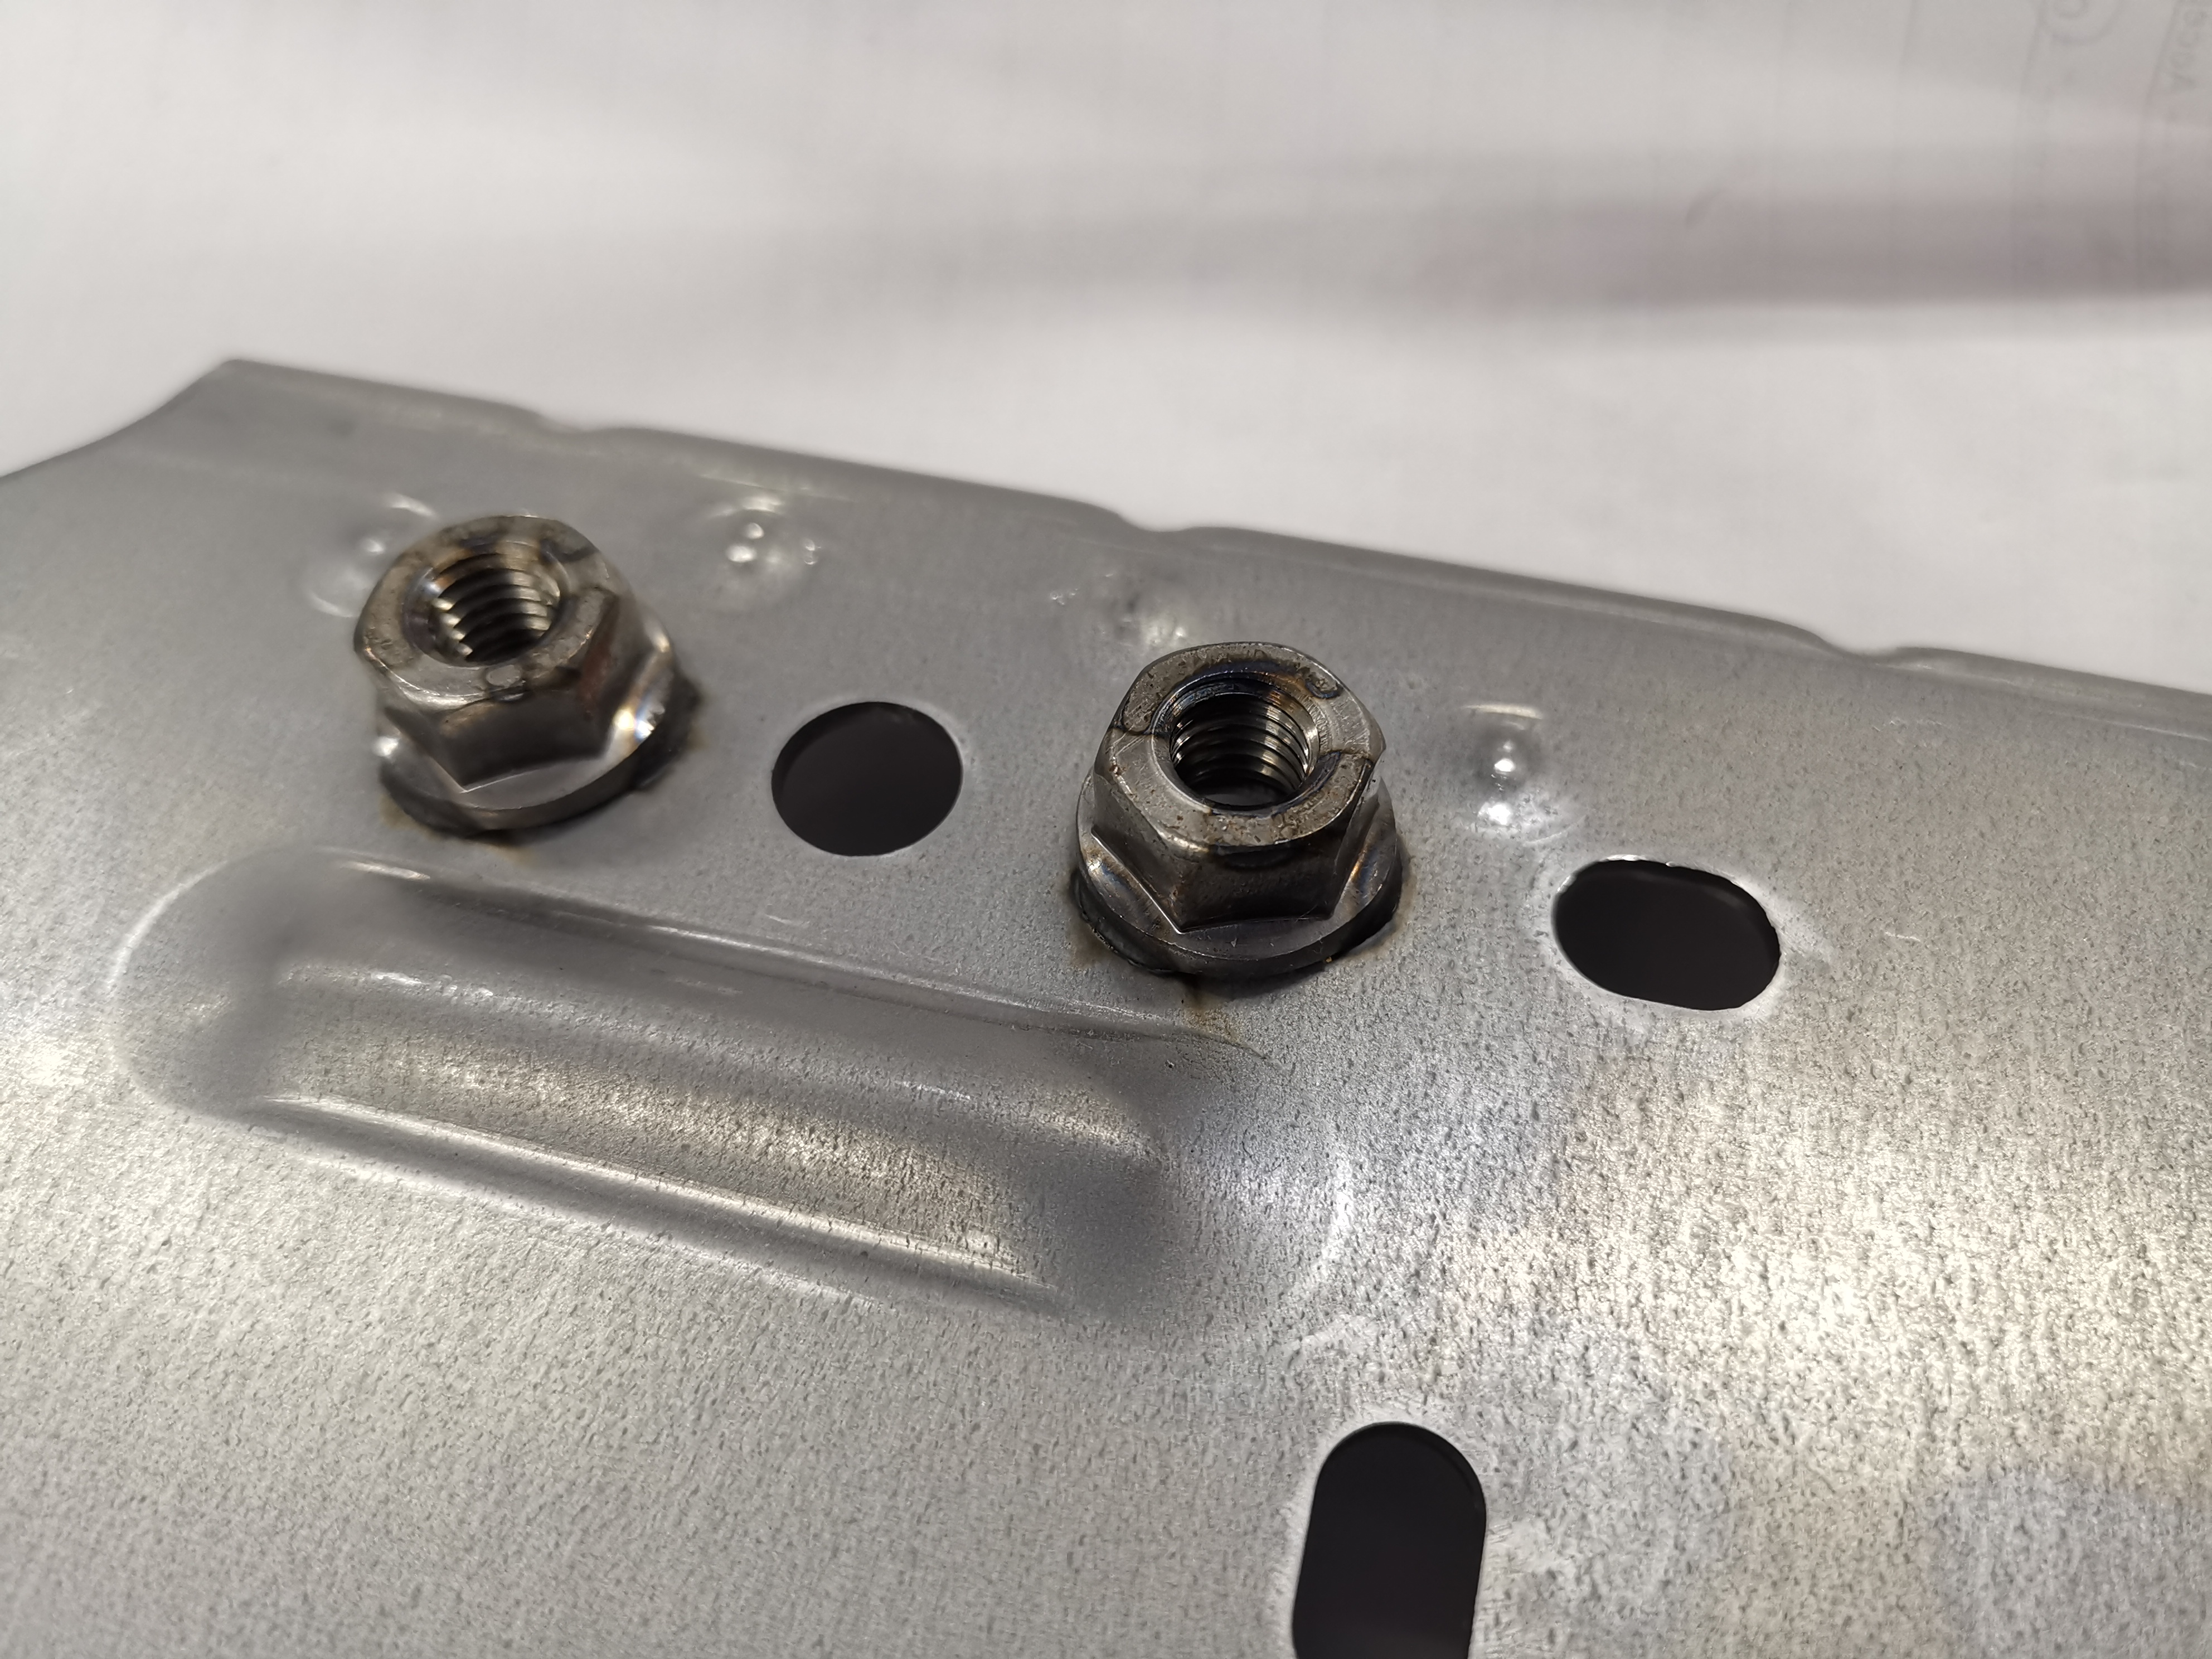dog: (1062, 638, 1414, 990), (347, 507, 688, 842)
